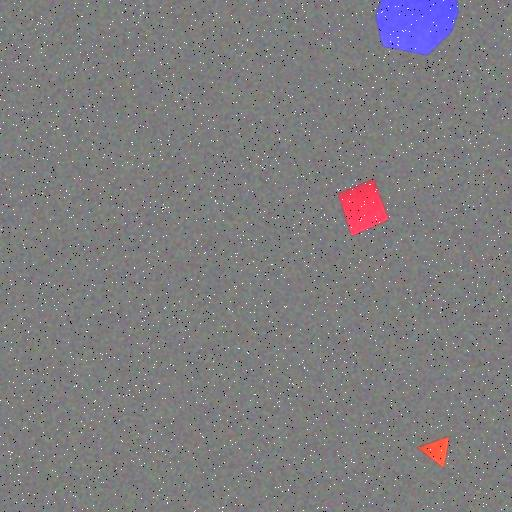RED_SQUARE: (336, 178, 390, 236)
